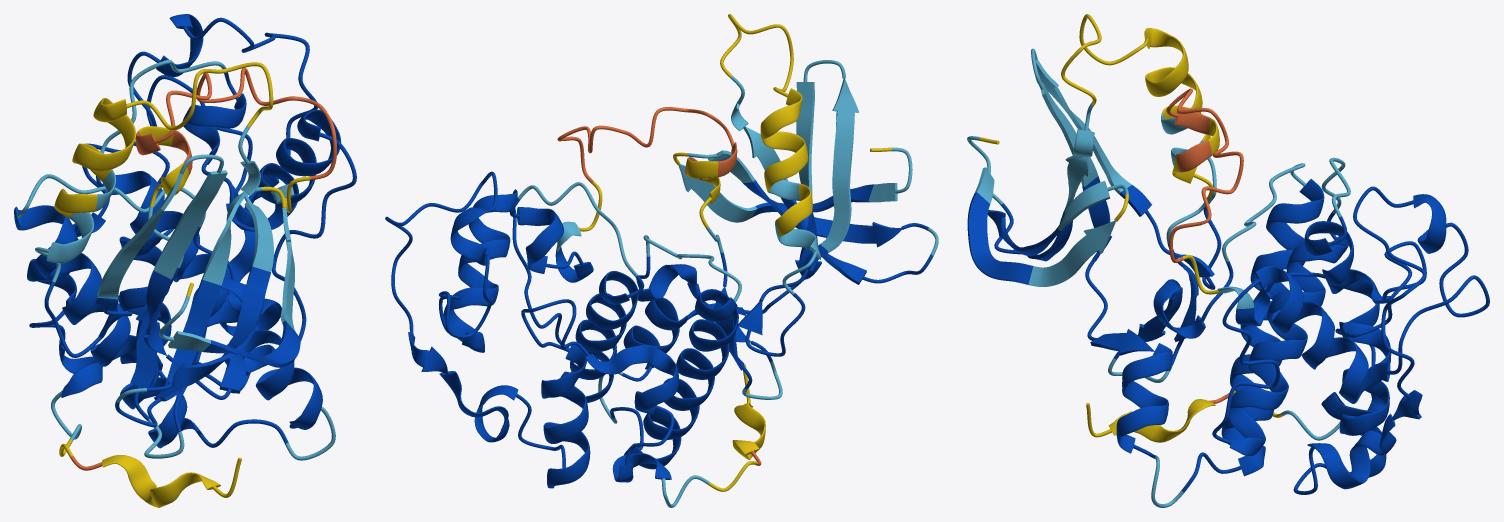
File: protein.glb
3 views of the same model, side by side, from view 1: azimuth 30°, elevation 25°; view 2: azimuth 150°, elevation 25°; view 3: azimuth 270°, elevation 25° (orthographic). The views are drawn at different scales.
Bounding box in the file's own units: 45.78 × 49.53 × 54.36.
